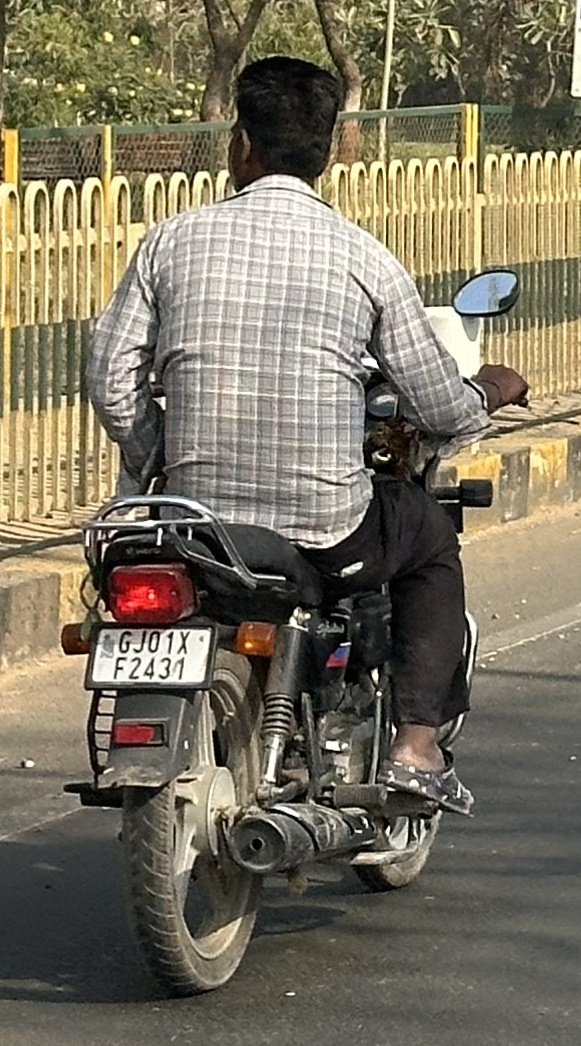BikeWithRider: (49, 43, 546, 1015)
NoHelmet: (188, 41, 355, 204)
